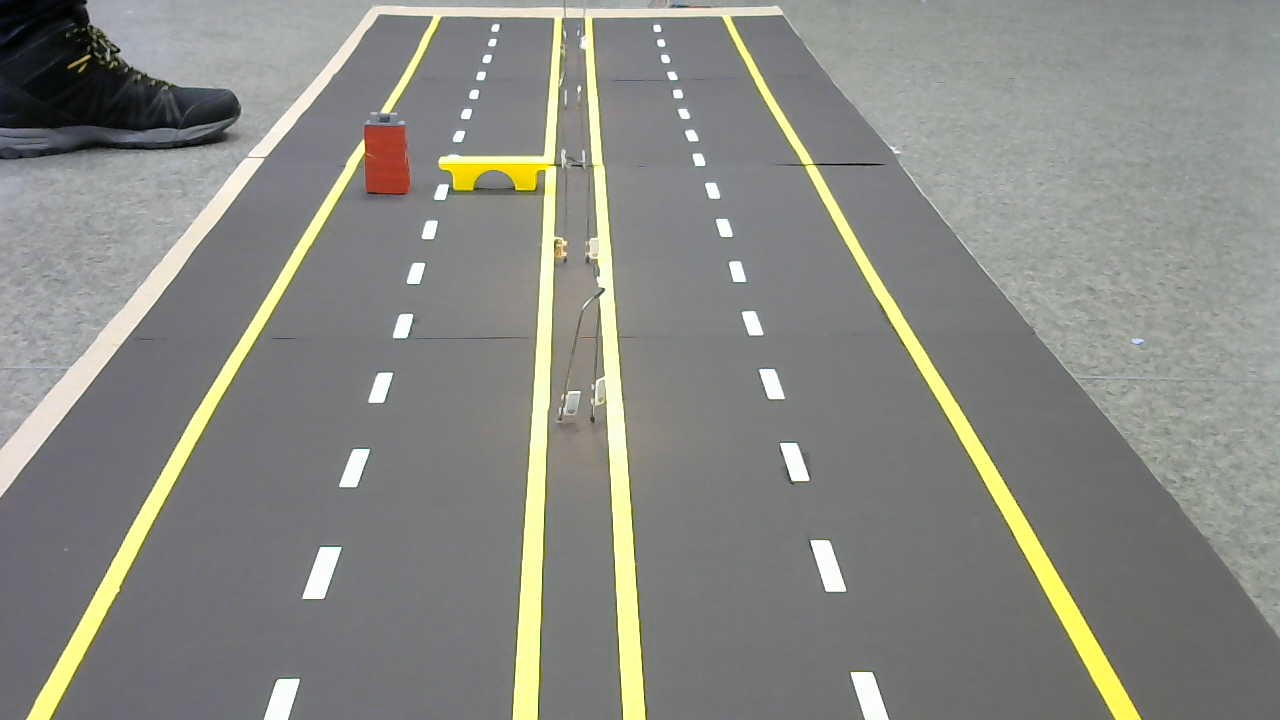accident: (362, 110, 415, 198)
emergency_situation: (434, 155, 553, 197)
